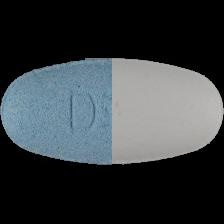54868-5708: (0, 0, 224, 224)
